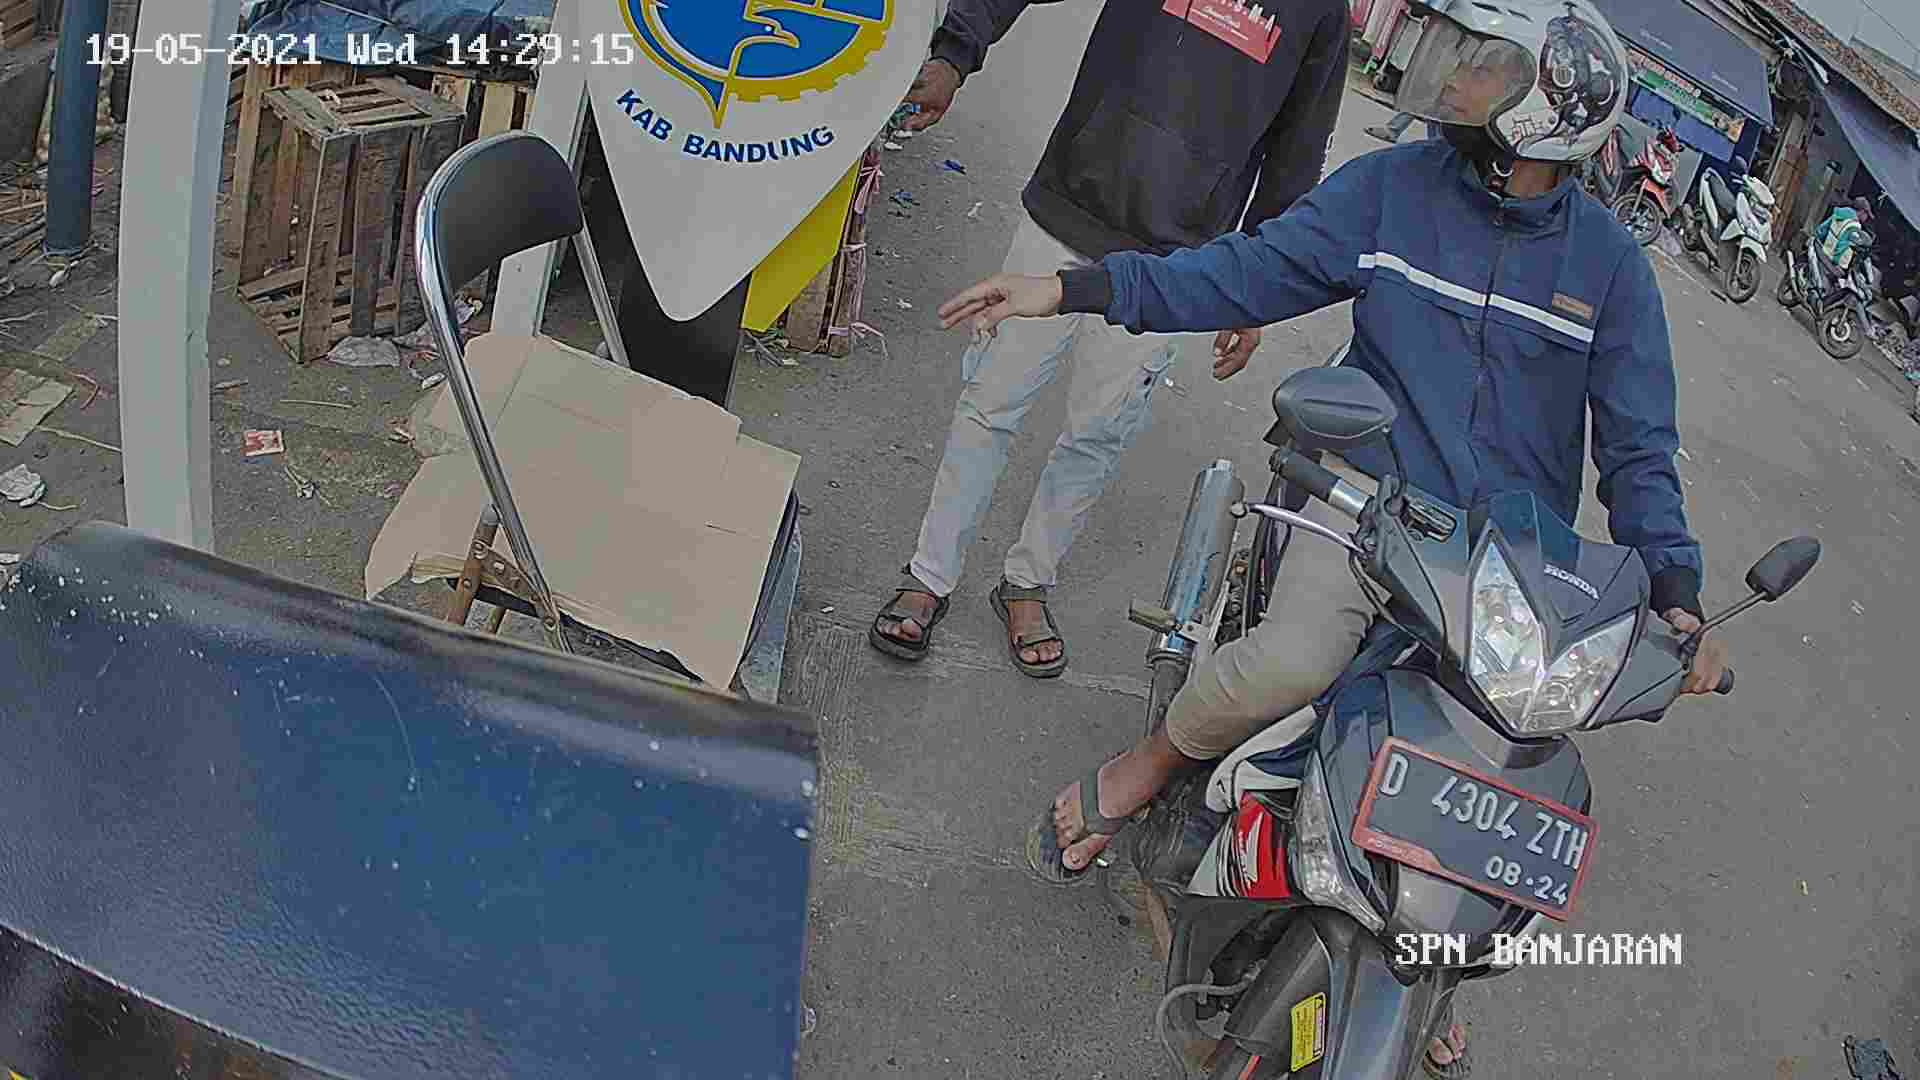motor: (1178, 444, 1706, 1080)
